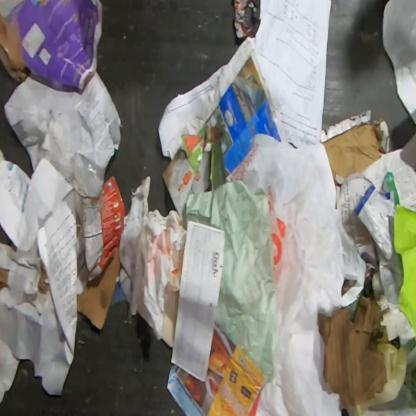cardboard: (318, 292, 390, 410), (76, 175, 127, 331), (320, 110, 391, 186), (180, 107, 232, 191), (382, 0, 415, 126), (162, 144, 211, 227), (38, 266, 50, 294), (0, 266, 9, 293)
soft_plastic: (242, 131, 368, 415), (344, 324, 416, 416)
